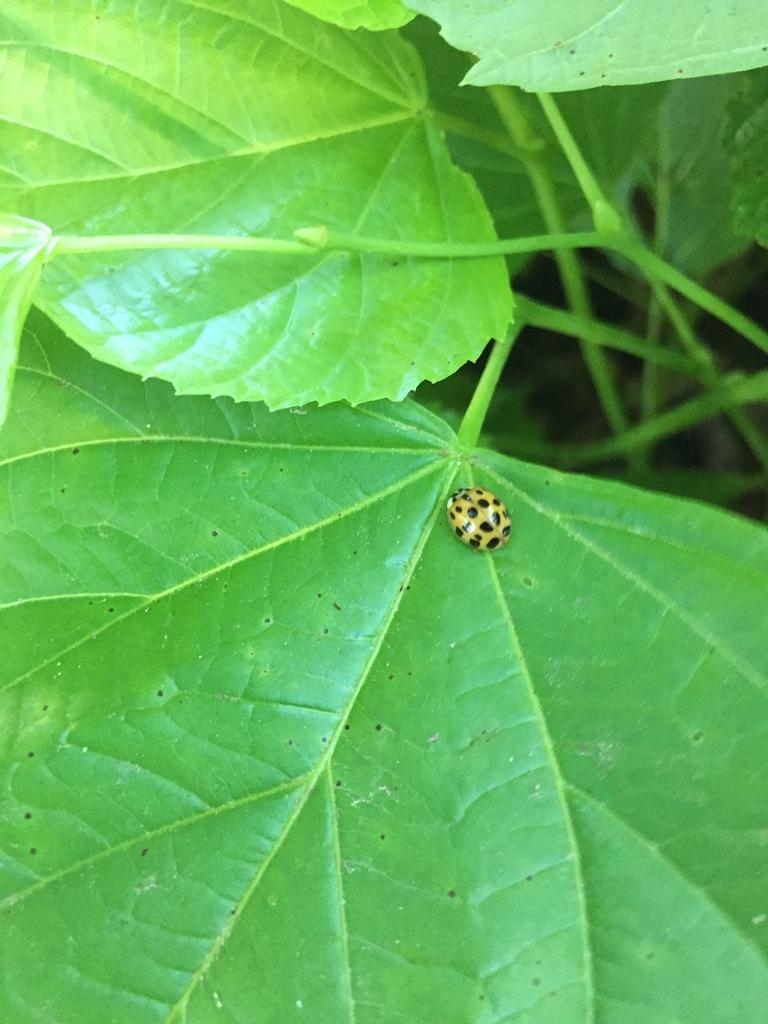ladybug: (444, 484, 521, 556)
